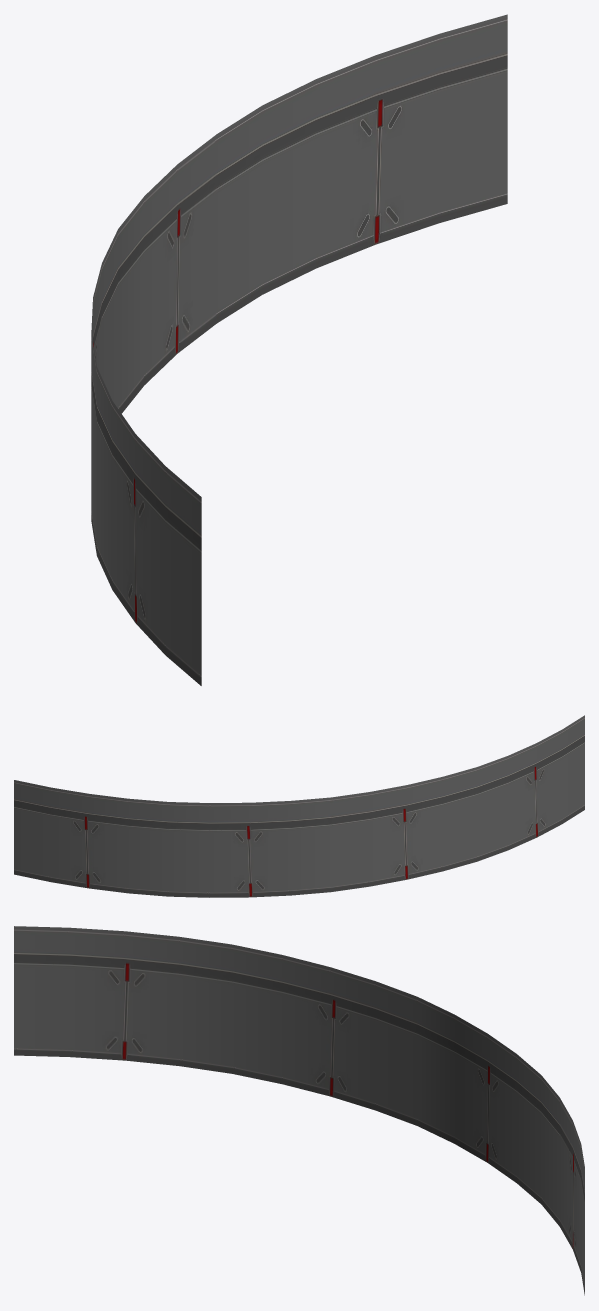
File: ShortWall_Simple2_Corner_Outer.glb
3 renders of one model, top to bottom at view 1: azimuth 30°, elevation 25°; view 2: azimuth 150°, elevation 25°; view 3: azimuth 270°, elevation 25°, orthographic. The views are drawn at different scales.
Parts seen in each view (by area): view 1: ShortWall_Simple2_Corner_Outer; view 2: ShortWall_Simple2_Corner_Outer; view 3: ShortWall_Simple2_Corner_Outer.
Part boxes in pixels (box(x1,y1,x2,y2)): ShortWall_Simple2_Corner_Outer: box(91, 14, 507, 685); ShortWall_Simple2_Corner_Outer: box(14, 715, 584, 897); ShortWall_Simple2_Corner_Outer: box(14, 926, 584, 1295).
Size of the model in its own units: 4 by 1 by 4.
1 material, 1 textured.
